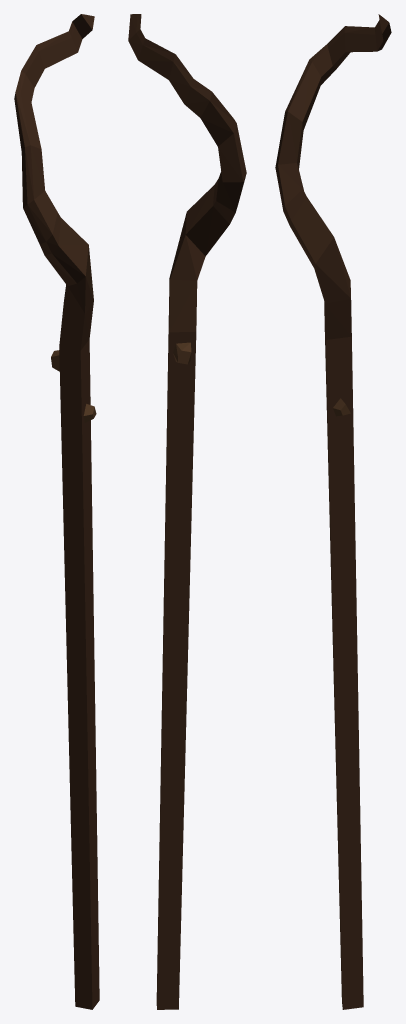
File: Cave_Lair_Weapon_Wooden_Timber_Staff_01.fbx
3 renders of one model, left to right at view 1: azimuth 30°, elevation 25°; view 2: azimuth 150°, elevation 25°; view 3: azimuth 330°, elevation 25°, orthographic. The views are drawn at different scales.
Parts seen in each view (by area): view 1: Cave_Lair_Weapon_Wooden_Timber_Staff_01; view 2: Cave_Lair_Weapon_Wooden_Timber_Staff_01; view 3: Cave_Lair_Weapon_Wooden_Timber_Staff_01.
Boxes of the visible parts, x1,y1,x2,y2 form: Cave_Lair_Weapon_Wooden_Timber_Staff_01: [14, 14, 99, 1009]; Cave_Lair_Weapon_Wooden_Timber_Staff_01: [128, 14, 246, 1009]; Cave_Lair_Weapon_Wooden_Timber_Staff_01: [275, 14, 391, 1009].
Bounding box in the file's own units: 0.1707 × 1.75 × 0.1338.
